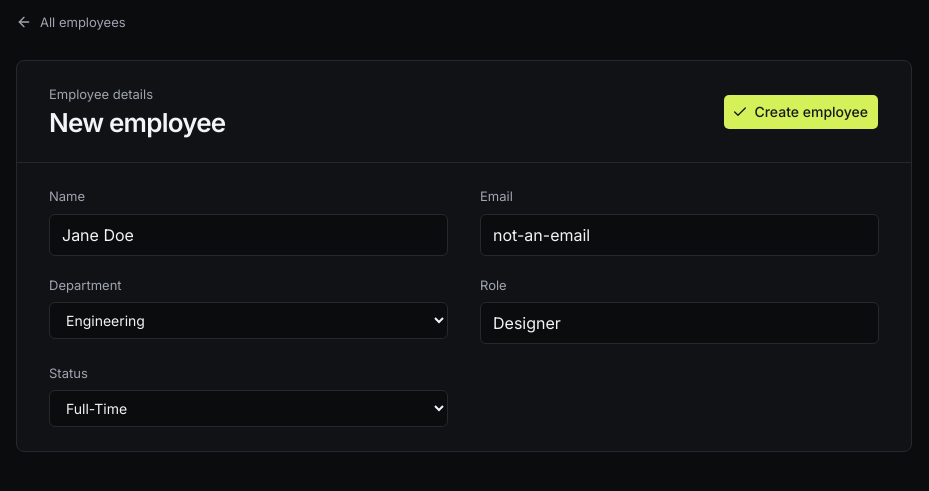
Scenario: EmployeeEditor › shows an email validation error for an invalid email
Click the button "Create employee". click: click(801, 112)
box: [723,94,879,130]
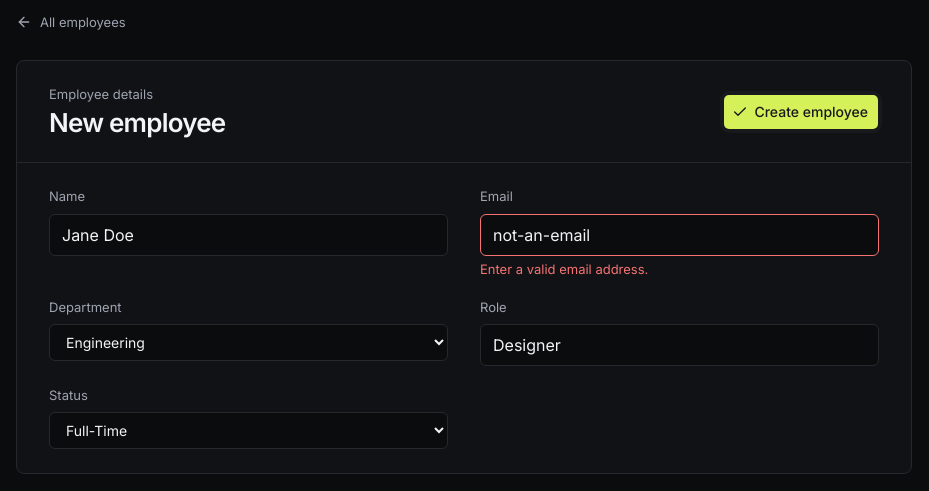
Expected: the text "Enter a valid email address." is shown, [480,261,648,277]
